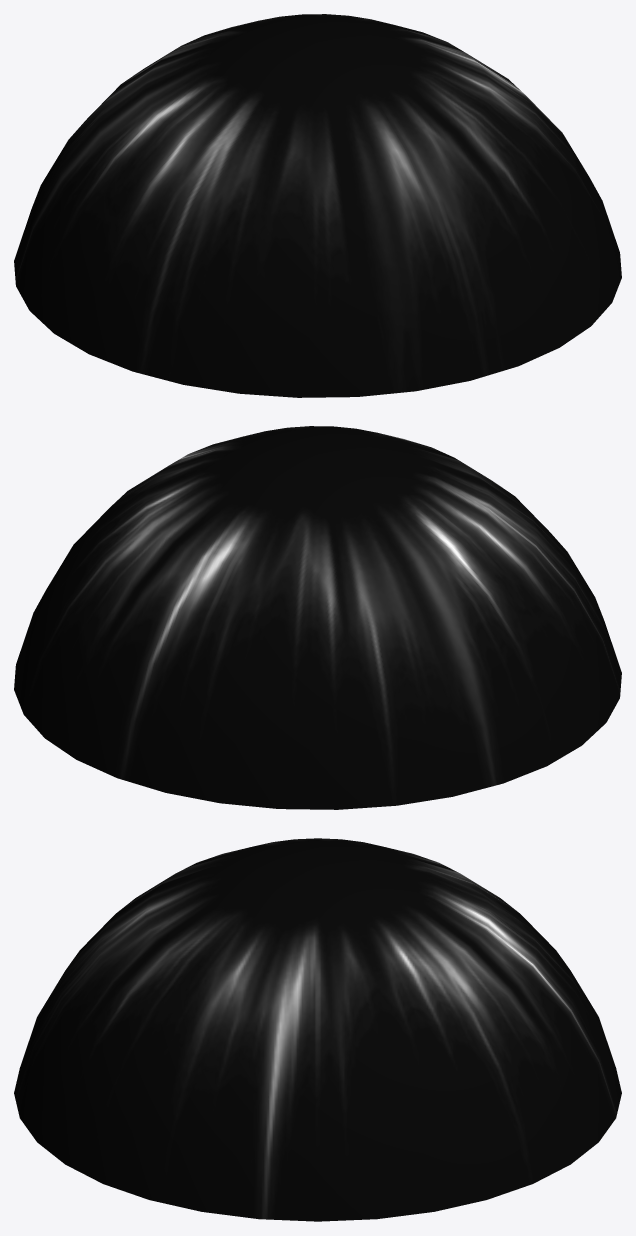
The model's file is fanchong.FBX.
The picture shows the model from 3 angles, top to bottom: view 1: azimuth 30°, elevation 25°; view 2: azimuth 150°, elevation 25°; view 3: azimuth 270°, elevation 25°; orthographic projection.
Parts seen in each view (by area): view 1: fanchong; view 2: fanchong; view 3: fanchong.
Boxes of the visible parts, left/top/right/bottom form: fanchong: left=14, top=14, right=621, bottom=397; fanchong: left=14, top=426, right=621, bottom=809; fanchong: left=14, top=838, right=621, bottom=1221.
Size of the model in its own units: 49.25 by 20.21 by 49.25.
1 material, 1 textured.
